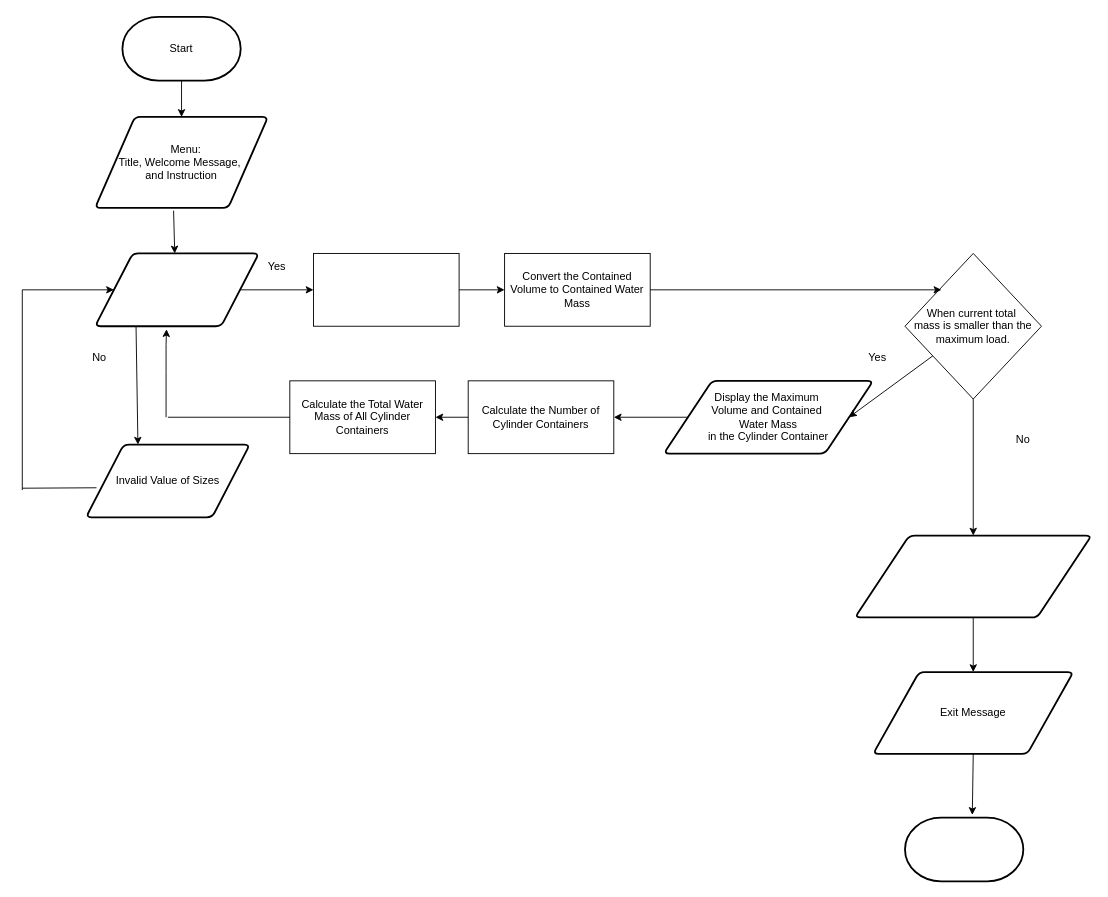
Image size: 1108x897. Some labels were removed from this diagram. The shapes that lost their labels are listed below. From the top down, each one's box as (x1, y1, x2, y2) in pixels, then its label:
(94, 252, 259, 327): Input Container Size
(313, 253, 459, 326): Calculate the Maximum Volume of the Cylinder Container
(854, 534, 1092, 618): Display the Total Water Mass and number of Cylinder Containers
(904, 816, 1024, 882): End
